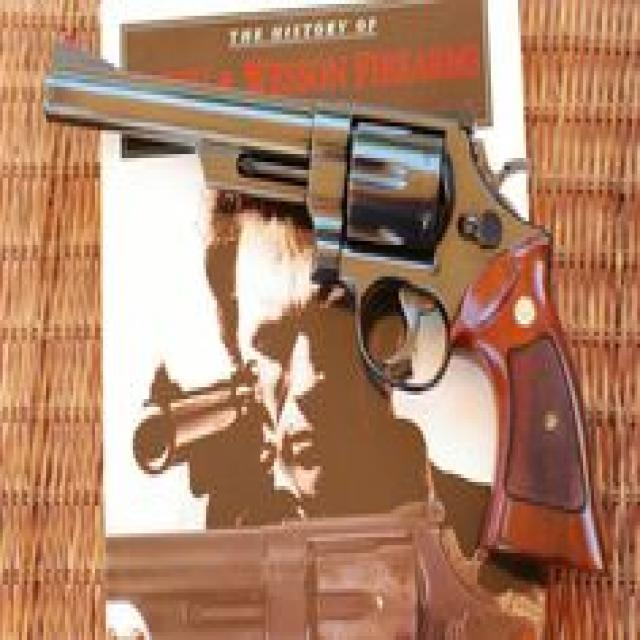semi automatic: (26, 46, 624, 582)
